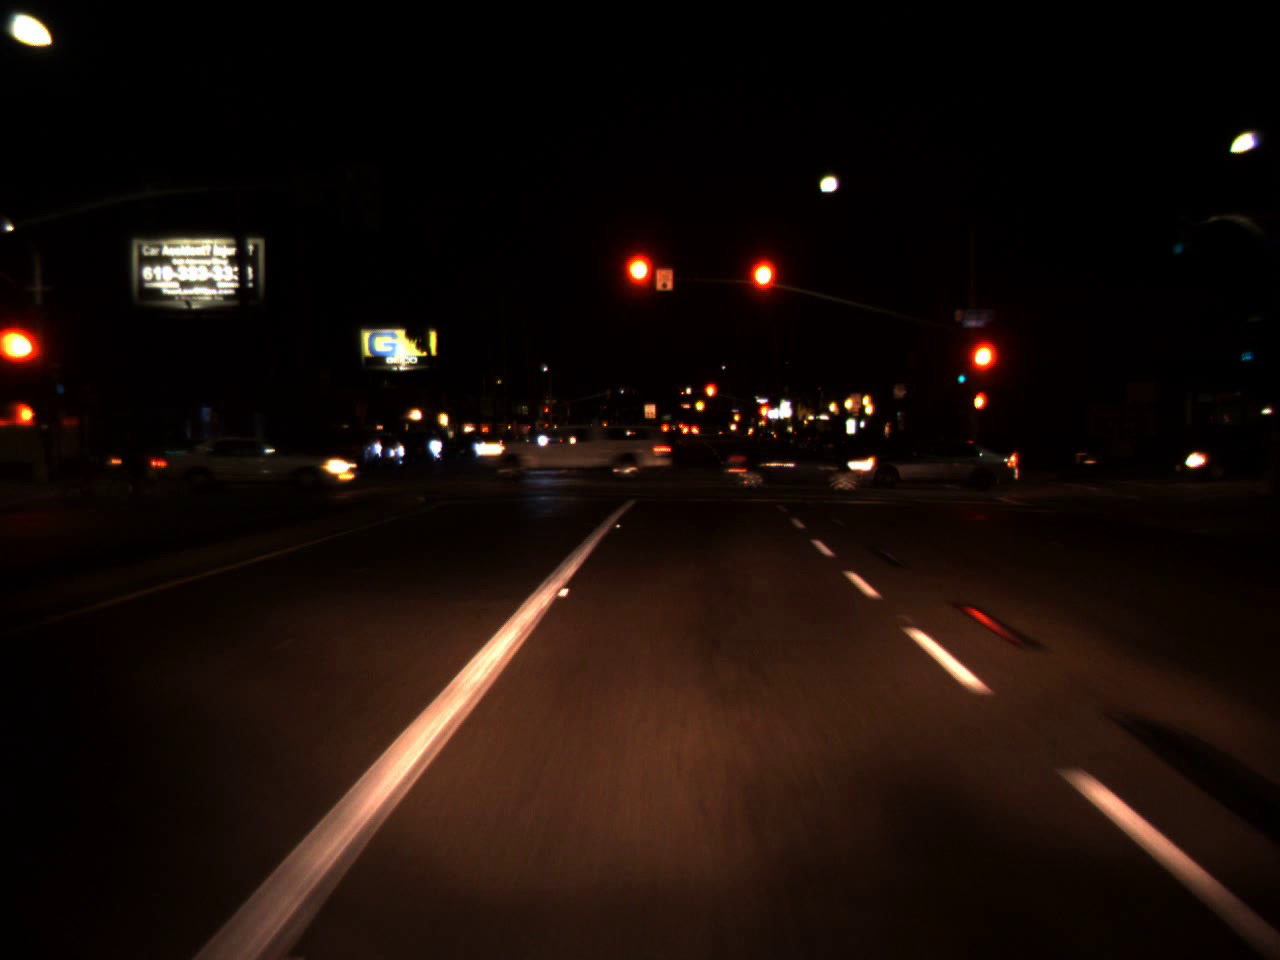stop: (0, 328, 43, 395), (620, 249, 657, 324), (966, 335, 1002, 410), (746, 255, 780, 325), (757, 404, 772, 425), (705, 384, 714, 408), (543, 407, 549, 417)
warning: (694, 397, 706, 412), (733, 408, 742, 425)
